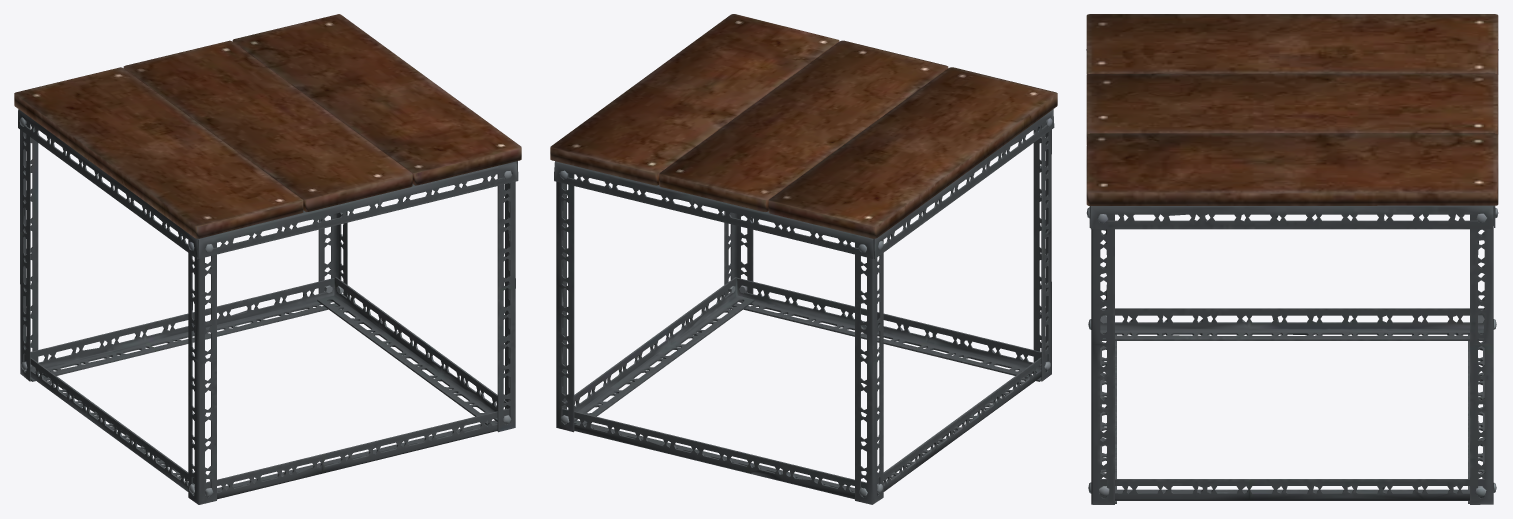
The model's file is industrial_coffee_table.glb.
3 views of the same model, side by side, from view 1: azimuth 30°, elevation 25°; view 2: azimuth 150°, elevation 25°; view 3: azimuth 270°, elevation 25° (orthographic). The views are drawn at different scales.
Parts seen in each view (by area): view 1: industrial_coffee_table; view 2: industrial_coffee_table; view 3: industrial_coffee_table.
Boxes of the visible parts, bbox=[...] form: industrial_coffee_table: bbox=[14, 14, 521, 504]; industrial_coffee_table: bbox=[550, 14, 1057, 504]; industrial_coffee_table: bbox=[1086, 14, 1498, 504].
Size of the model in its own units: 0.7764 by 0.6375 by 0.7571.
1 material, 1 textured.
